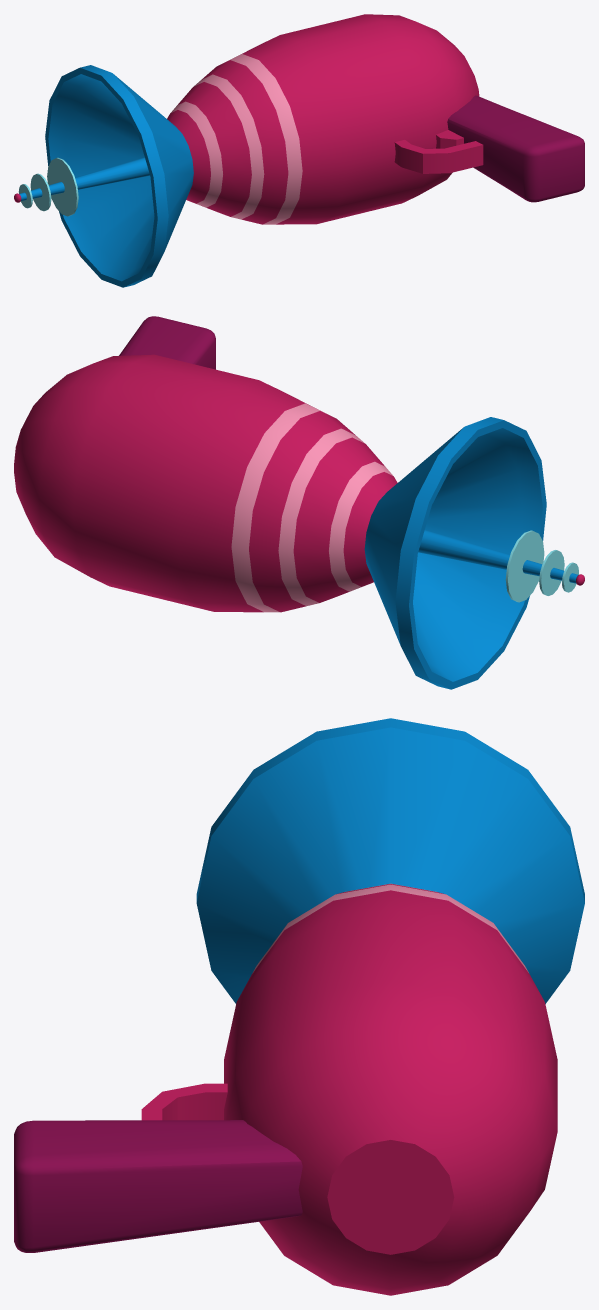
The model's file is Laser_Pistol.fbx.
3 views of the same model, one above another, from view 1: azimuth 30°, elevation 25°; view 2: azimuth 150°, elevation 25°; view 3: azimuth 270°, elevation 25° (orthographic). The views are drawn at different scales.
Visible parts, largest first — view 1: Laser_Pistol; view 2: Laser_Pistol; view 3: Laser_Pistol.
Part boxes in pixels (box(x1,y1,x2,y2)): Laser_Pistol: box(14, 14, 584, 287); Laser_Pistol: box(14, 316, 584, 689); Laser_Pistol: box(14, 718, 584, 1295).
Bounding box in the file's own units: 17.48 × 7.35 × 10.8.
Materials: 1 (1 with a texture image).
